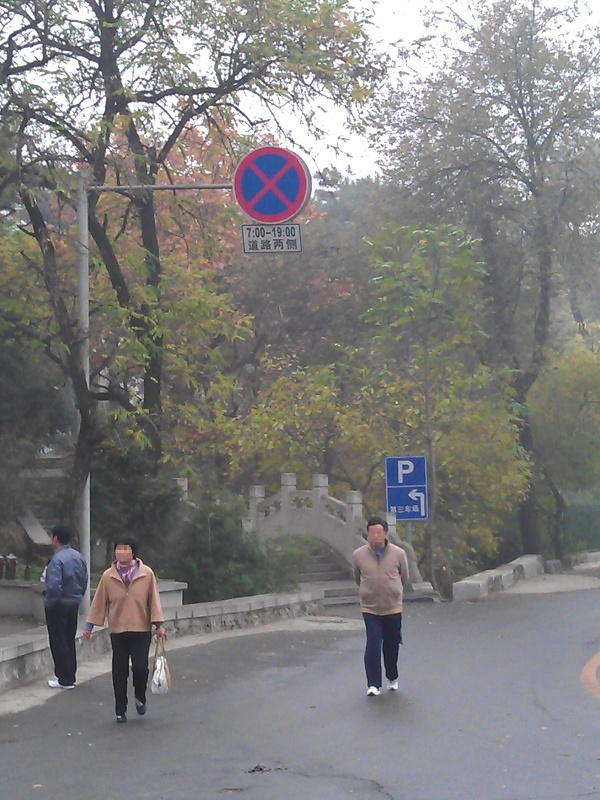text: (401, 460, 415, 485), (257, 238, 272, 252), (273, 238, 288, 252), (257, 227, 272, 239), (273, 227, 288, 239), (401, 505, 416, 514), (289, 238, 298, 252), (246, 227, 256, 239), (248, 238, 256, 252), (389, 505, 400, 514), (289, 227, 296, 239), (398, 460, 400, 485), (417, 505, 421, 514)
